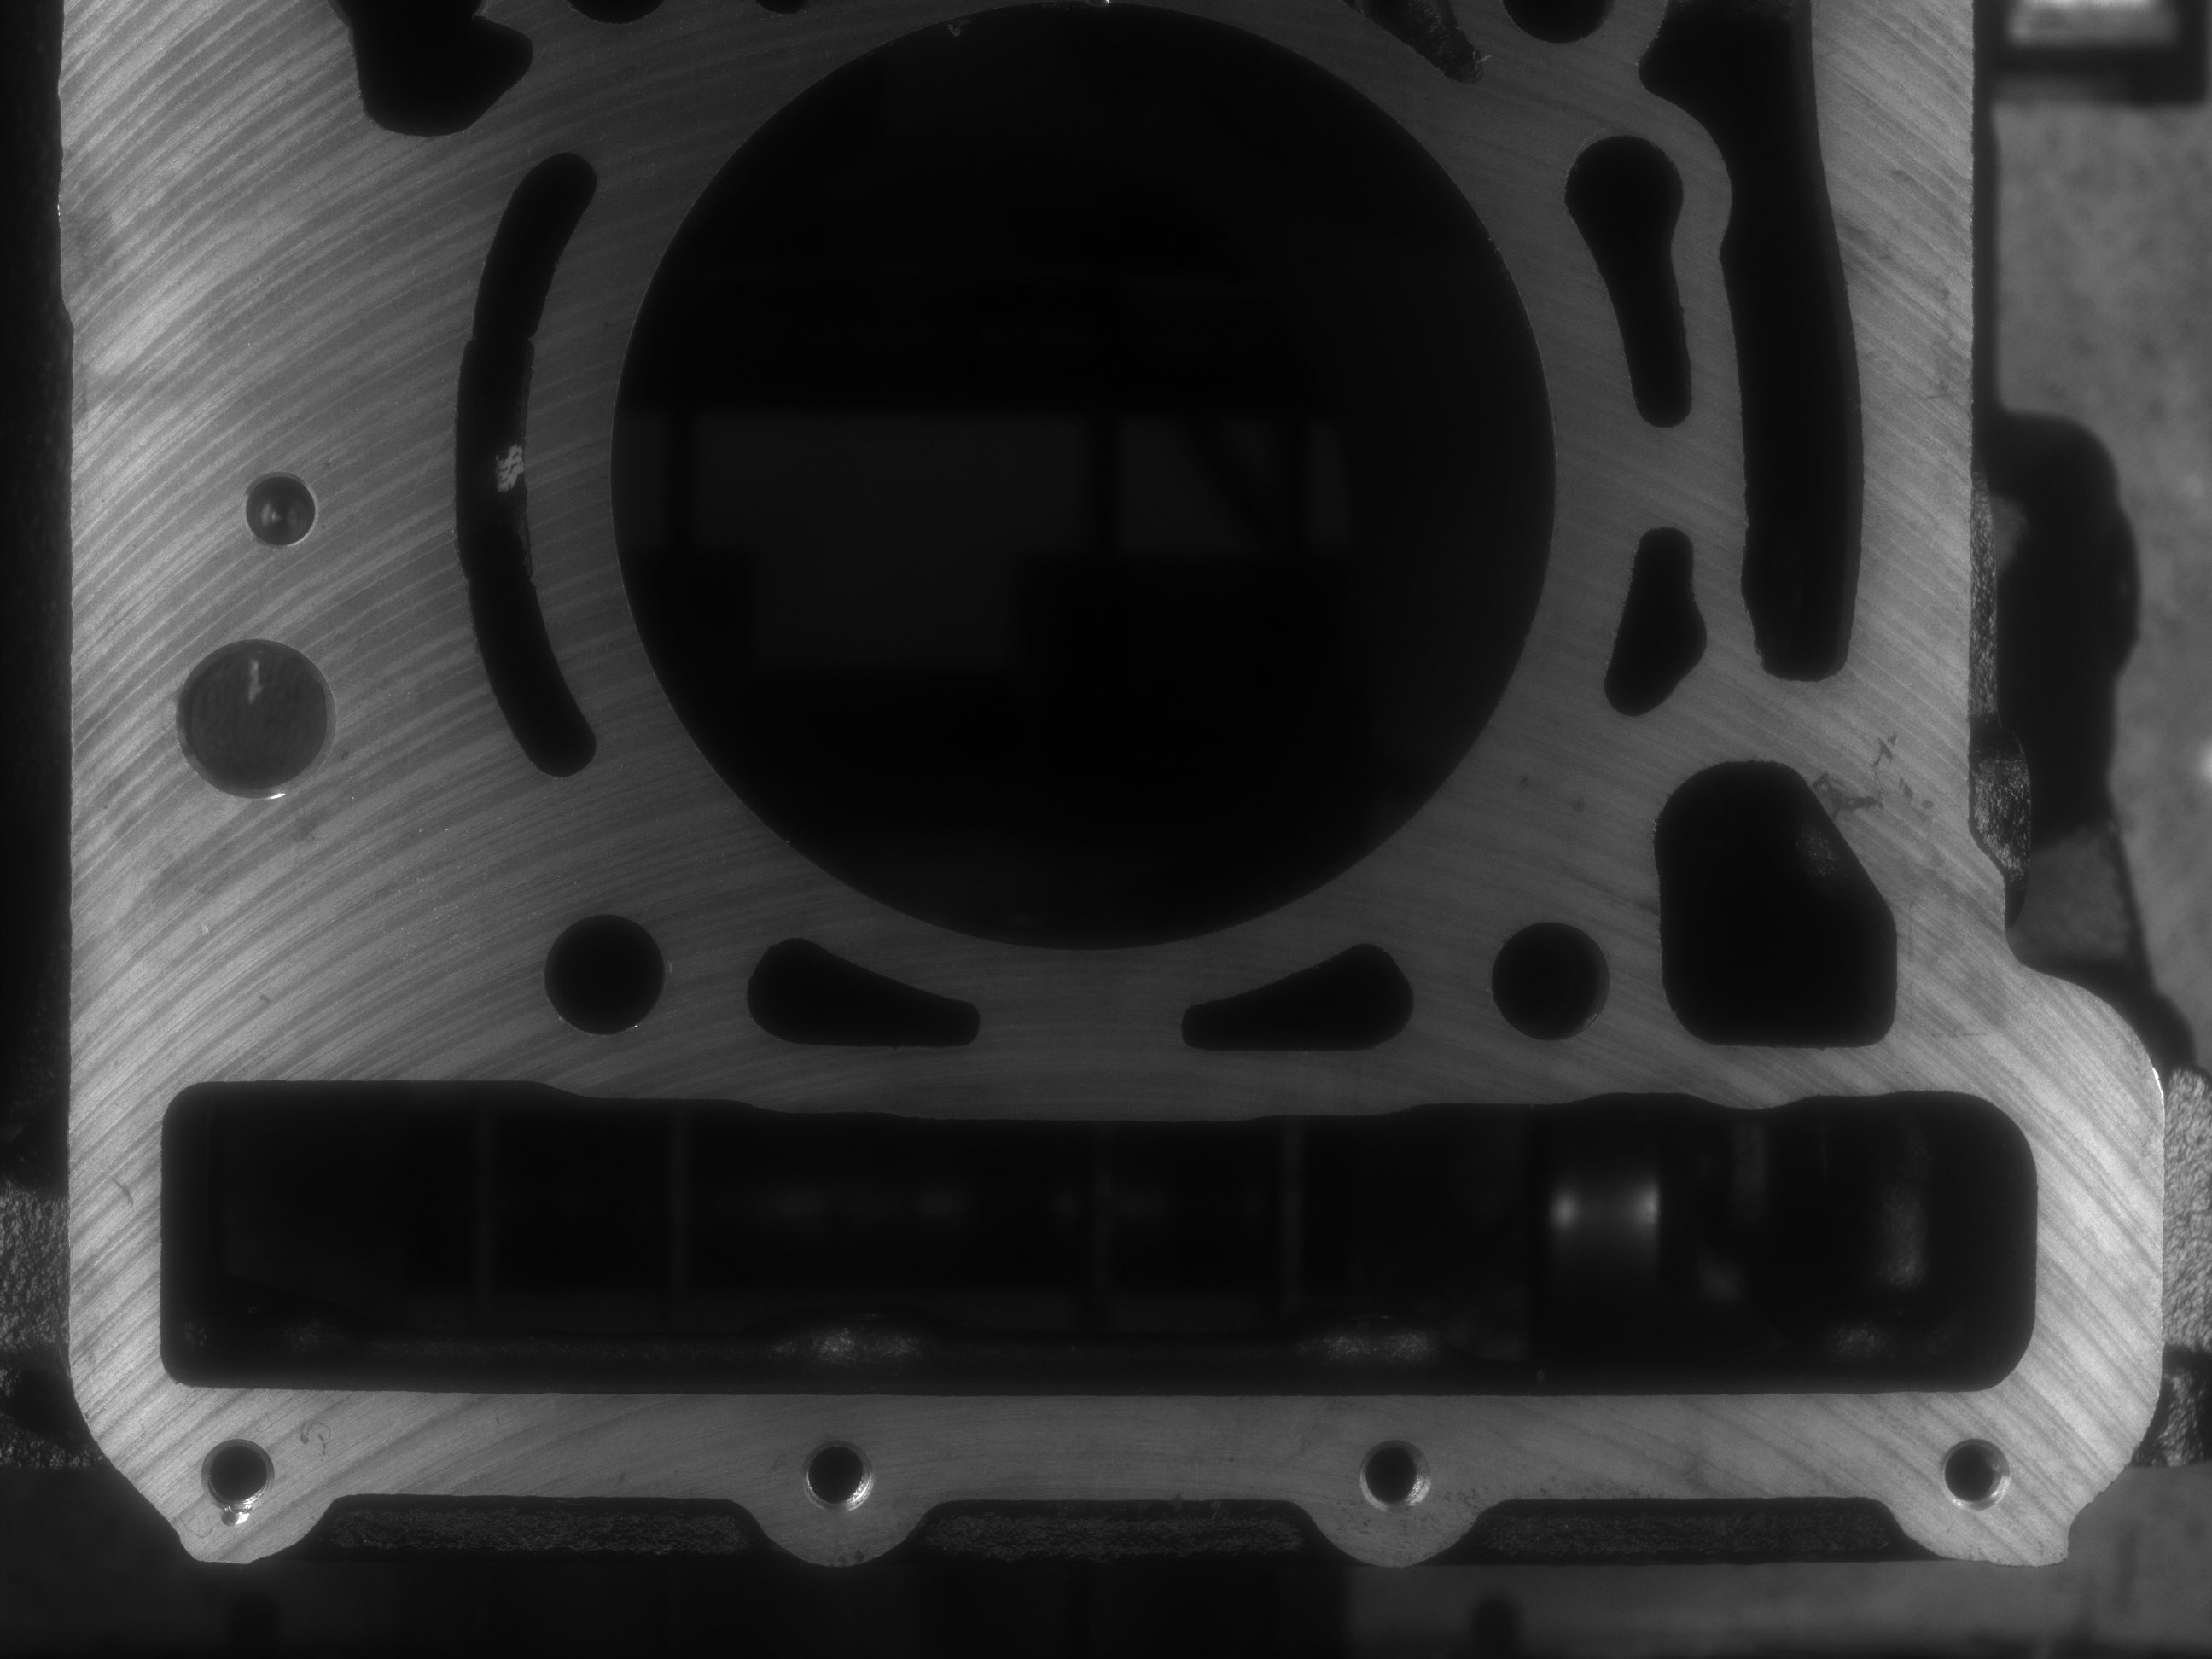shrinkage: (218, 1495, 256, 1525)
